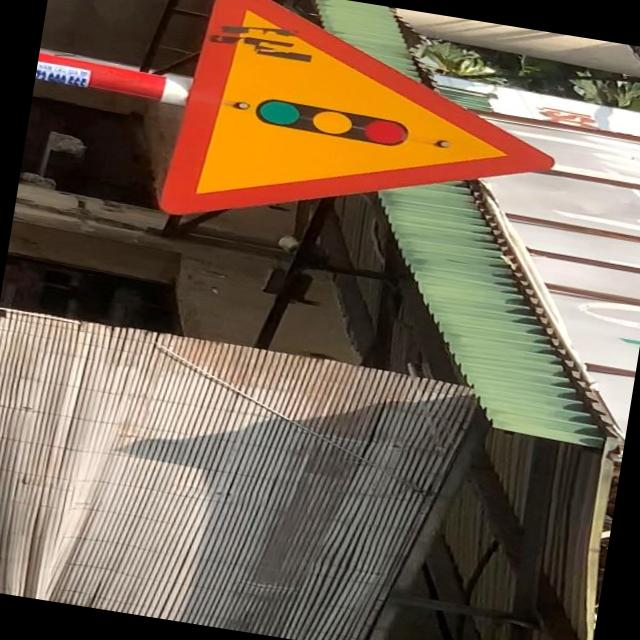W-209: (154, 0, 572, 272)
